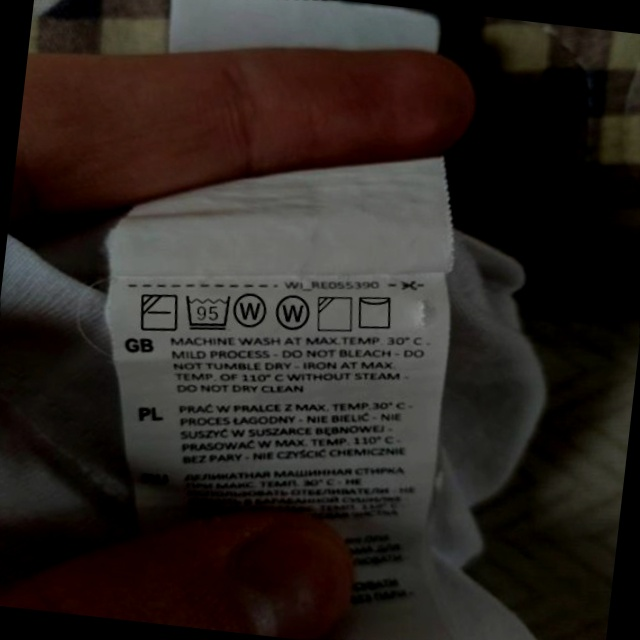95C: (180, 288, 236, 336)
dry_flat_in_shade: (135, 287, 182, 337)
line_dry: (352, 289, 399, 335)
shade_dry: (312, 290, 358, 337)
wet_clean: (230, 285, 273, 333), (271, 290, 315, 336)
